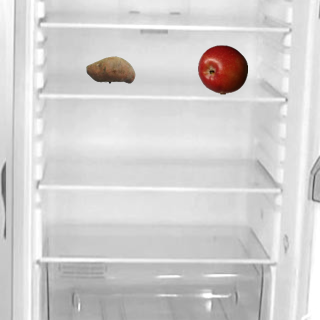Apple Braeburn: (197, 44, 247, 94)
Potato Sweet: (85, 44, 135, 94)
